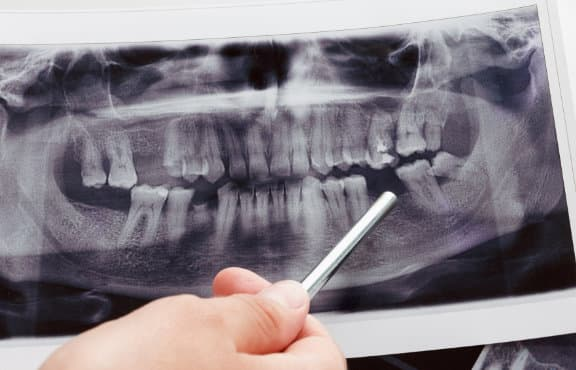canine: (199, 121, 227, 187), (214, 182, 240, 249), (309, 114, 334, 177), (301, 177, 325, 233)
incisor: (289, 116, 311, 178), (228, 122, 250, 182), (250, 120, 269, 185), (272, 119, 291, 178), (269, 181, 287, 228), (286, 176, 303, 225), (239, 183, 255, 235), (255, 182, 270, 227)
molar: (117, 182, 169, 253), (394, 155, 444, 211), (364, 110, 400, 172), (106, 129, 137, 192), (77, 133, 109, 190), (395, 108, 428, 160), (428, 151, 470, 182), (422, 101, 444, 155)
premolar: (163, 186, 198, 247)
